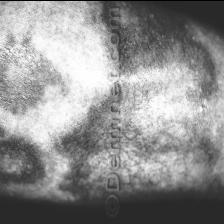Unclassified: (126, 49, 212, 186), (64, 94, 103, 212), (0, 34, 58, 100), (125, 0, 170, 63), (0, 128, 47, 181)
